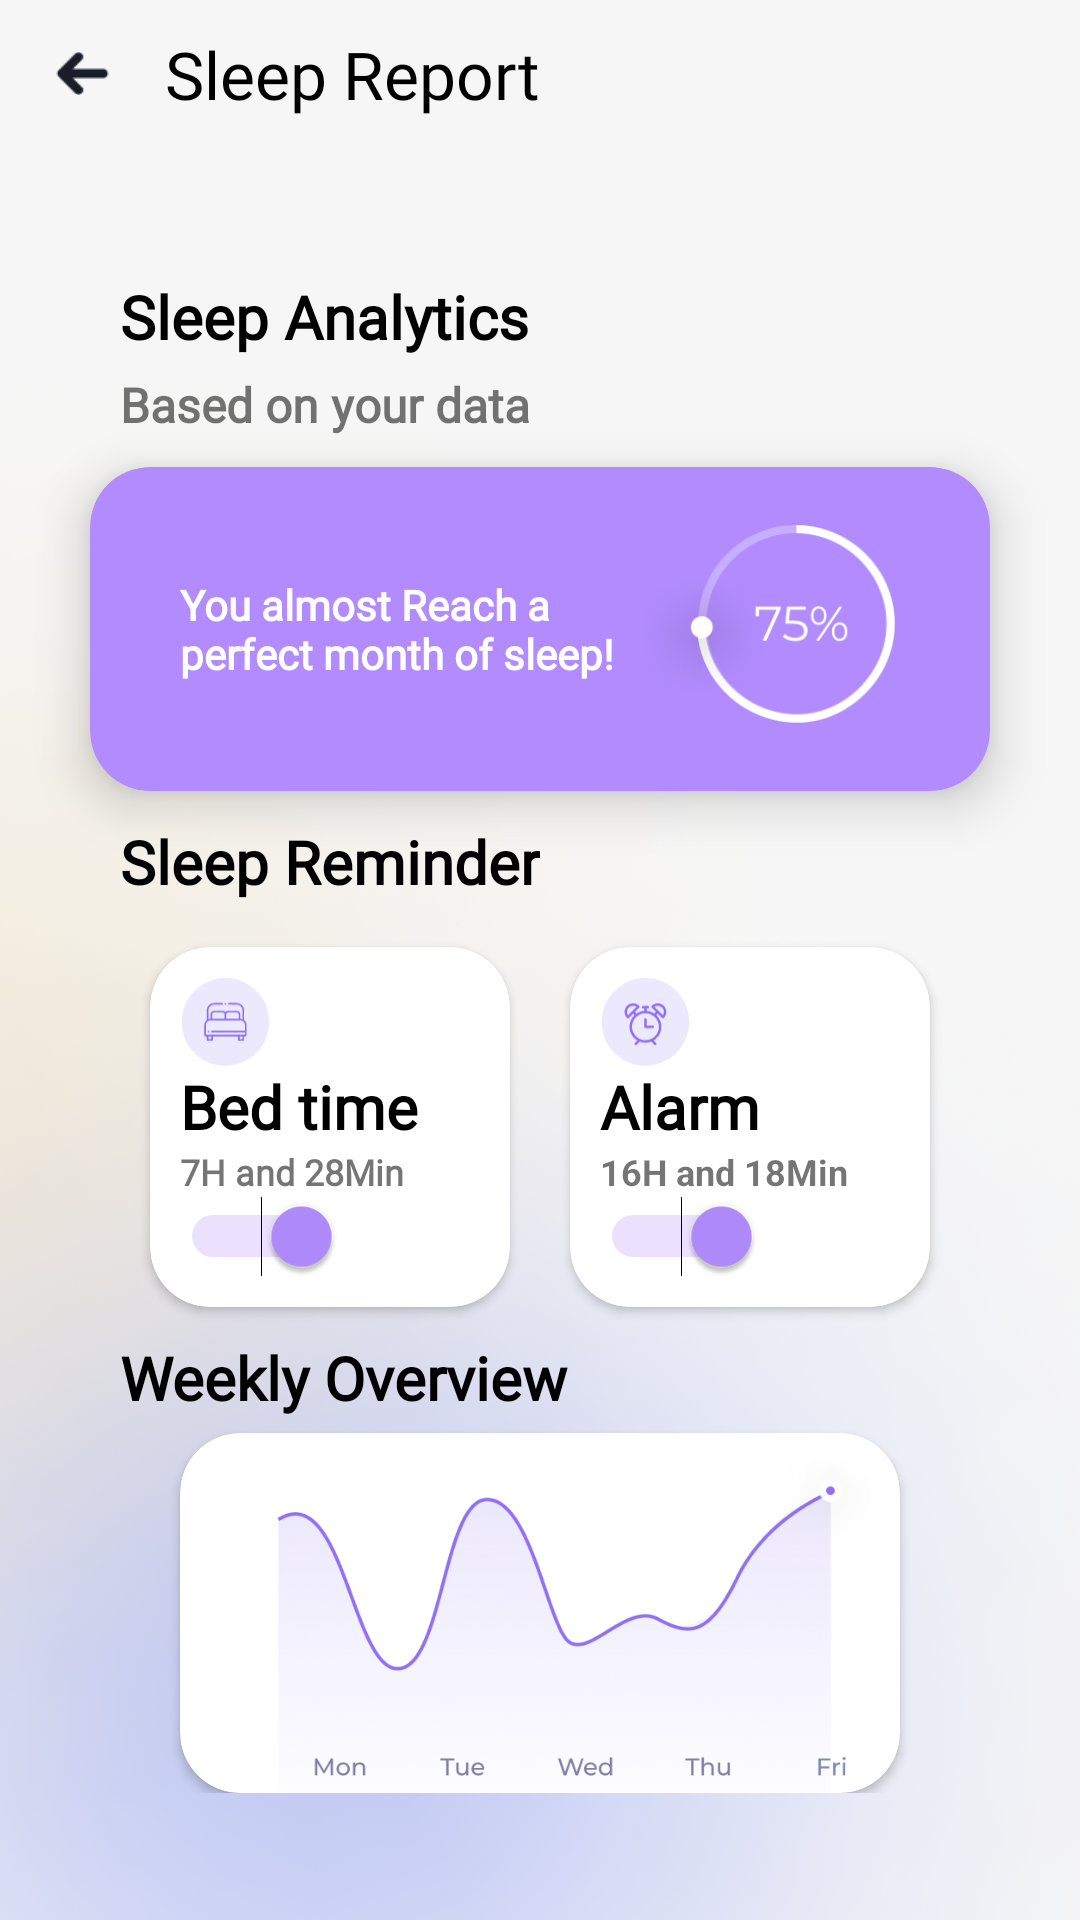

Locate icon controls on the screen. Image size 1080 x 1920, boxes as (x1,y1,x2,y2).
progress: (691,525,895,723)
